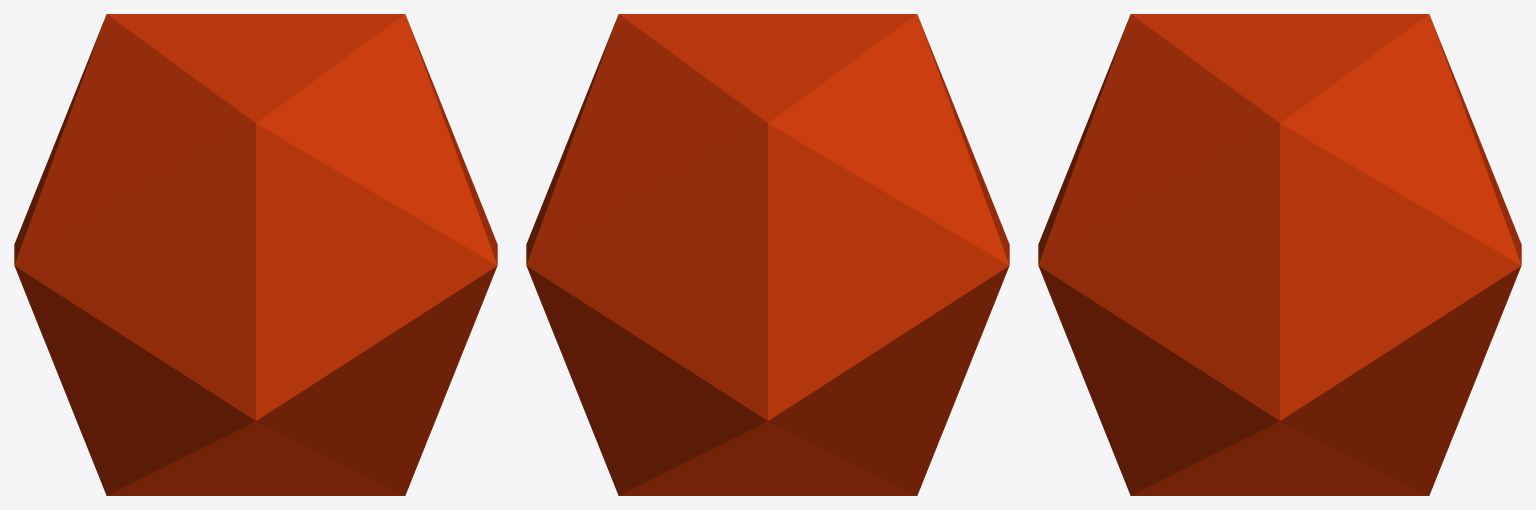
Rendered from Prop_Fruit_Apple_Red_01.fbx.
3 views of the same model, side by side, from view 1: azimuth 30°, elevation 25°; view 2: azimuth 150°, elevation 25°; view 3: azimuth 270°, elevation 25° (orthographic).
Visible parts, largest first — view 1: Prop_Fruit_Apple_Red_01; view 2: Prop_Fruit_Apple_Red_01; view 3: Prop_Fruit_Apple_Red_01.
Boxes of the visible parts, x1=… form: Prop_Fruit_Apple_Red_01: x1=14, y1=14, x2=497, y2=495; Prop_Fruit_Apple_Red_01: x1=526, y1=14, x2=1009, y2=495; Prop_Fruit_Apple_Red_01: x1=1038, y1=14, x2=1521, y2=495.
Bounding box in the file's own units: 143 × 116 × 124.
